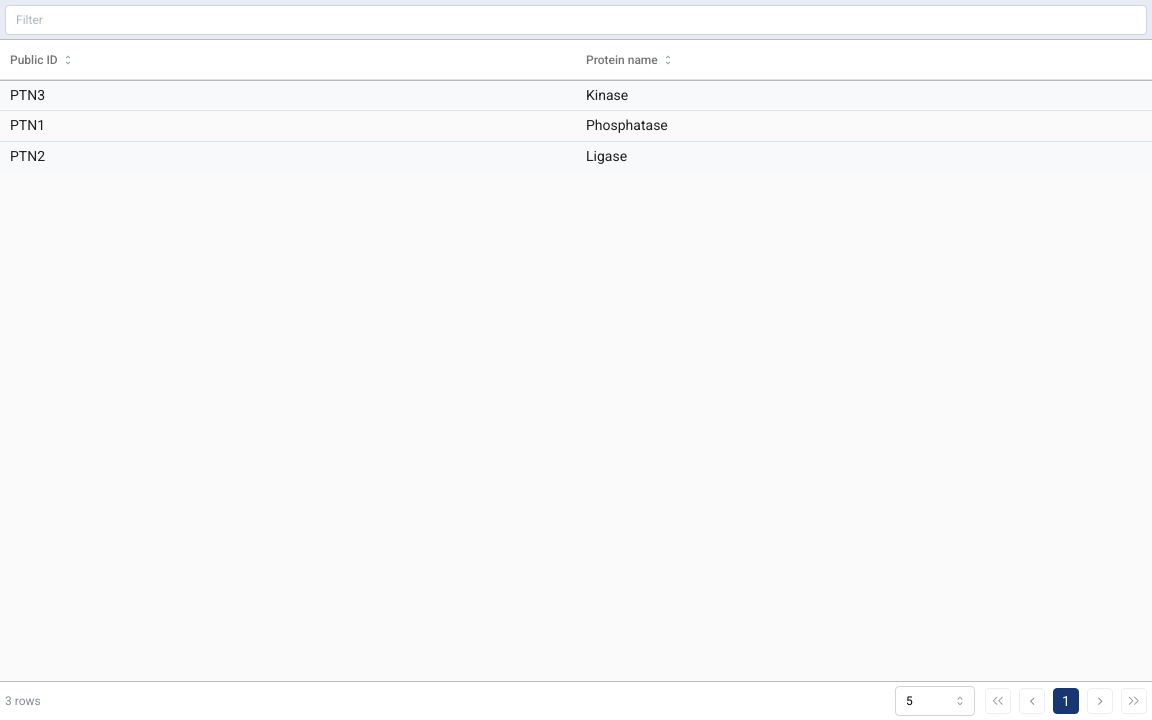
Test: DataTable › pages the rows and reports the total
Expected: the text "3 rows" is shown, x1=5 y1=693 x2=41 y2=709
Type "PTN1" into the field named "Filter rows" at (576, 20), box x1=5 y1=4 x2=1147 y2=34
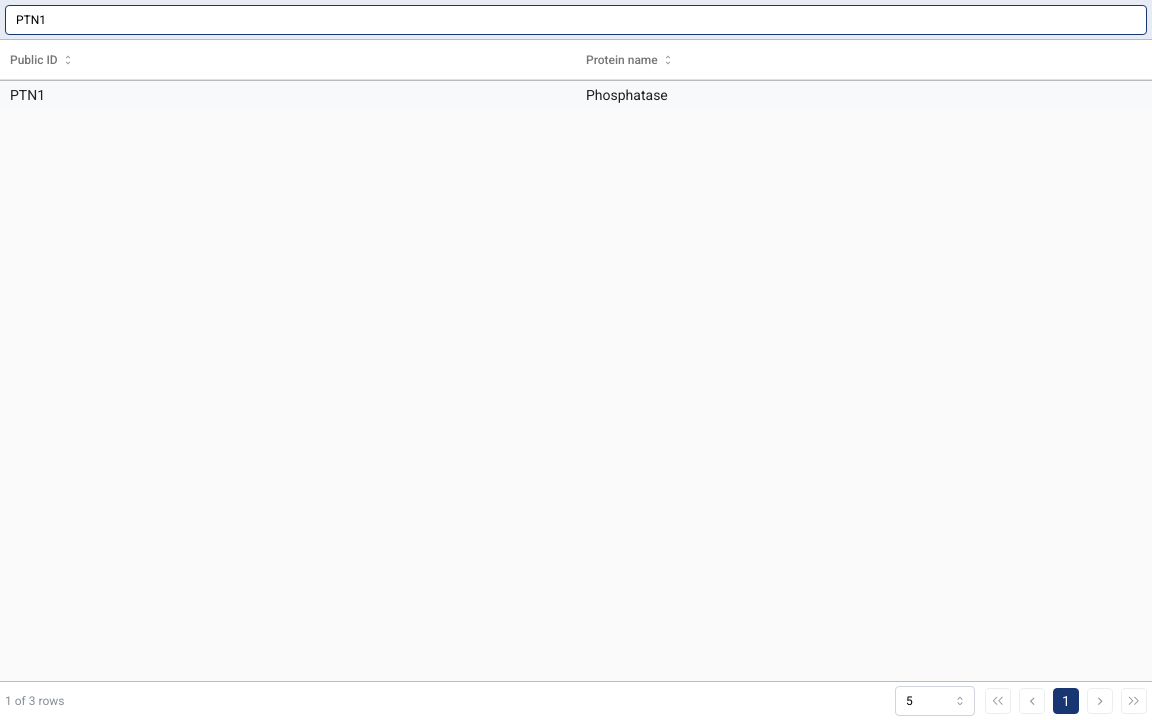
Result: the text "1 of 3 rows" is shown at x1=5 y1=693 x2=64 y2=709
